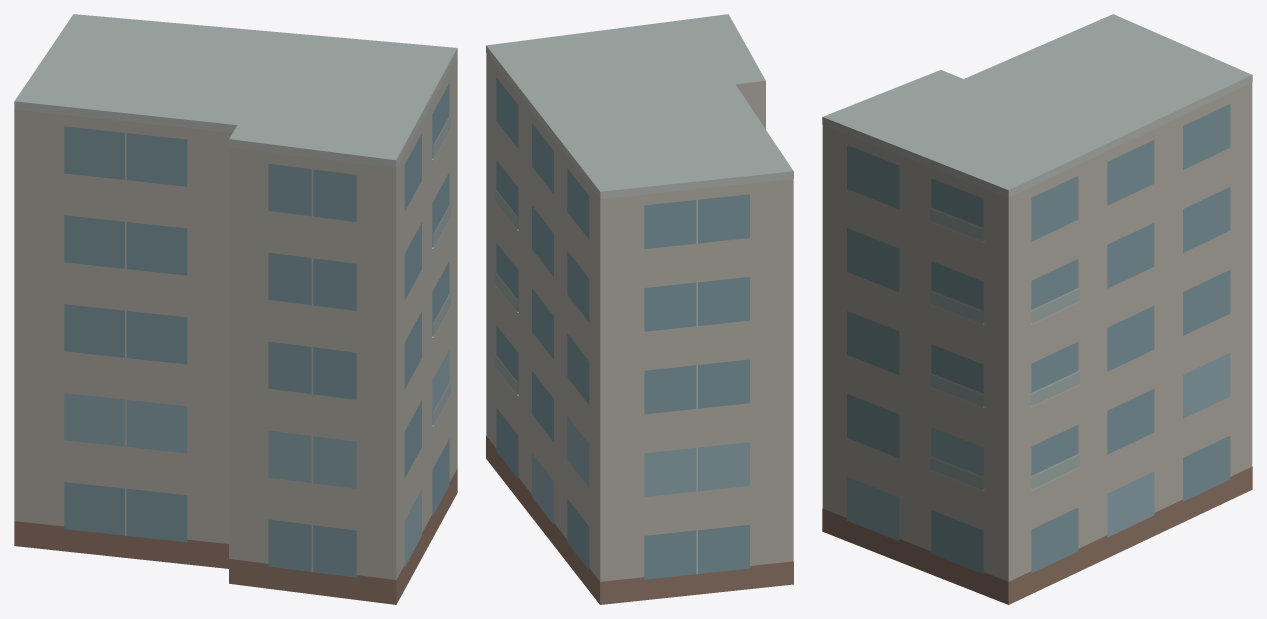
The model's file is survey-upis-32920481.glb.
The picture shows the model from 3 angles, left to right: view 1: azimuth 30°, elevation 25°; view 2: azimuth 150°, elevation 25°; view 3: azimuth 270°, elevation 25°; orthographic projection. The views are drawn at different scales.
Visible parts, largest first — view 1: survey-upis-32920481.tmp; view 2: survey-upis-32920481.tmp; view 3: survey-upis-32920481.tmp.
Part boxes in pixels (x1,y1,x2,y2): survey-upis-32920481.tmp: (14,14,457,604); survey-upis-32920481.tmp: (486,14,793,604); survey-upis-32920481.tmp: (822,14,1252,604).
Bounding box in the file's own units: 12.13 × 13.3 × 12.51.
